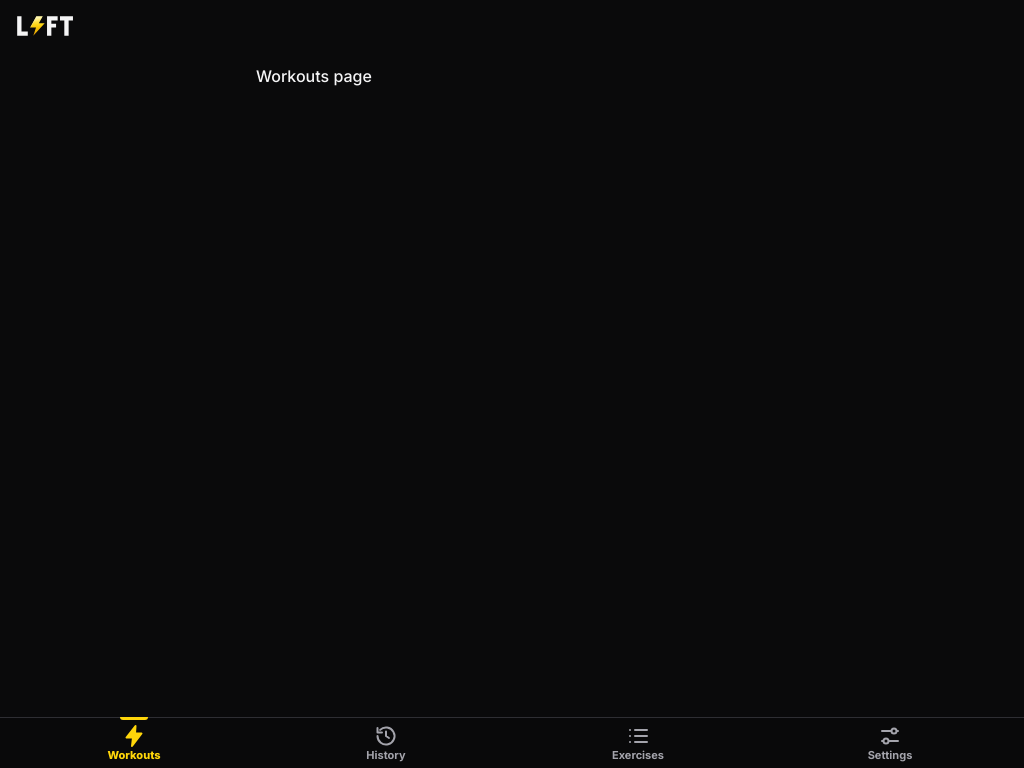
app shell › tapping a tab shows its page and moves the active mark
Step 1. Click the link "Exercises" → (638, 743), box [612,724,664,762]
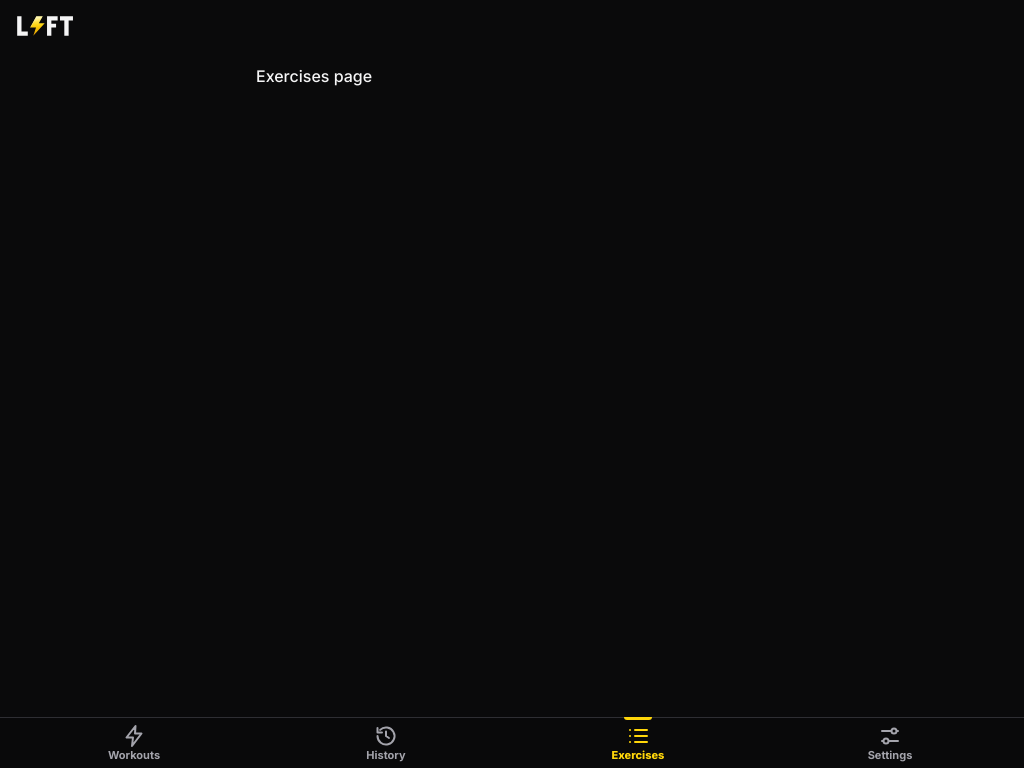
Expected: the text "Exercises page" is shown, [256,66,372,86]
